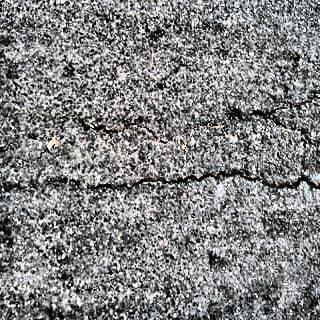crack: (86, 106, 313, 144), (78, 172, 310, 194)
